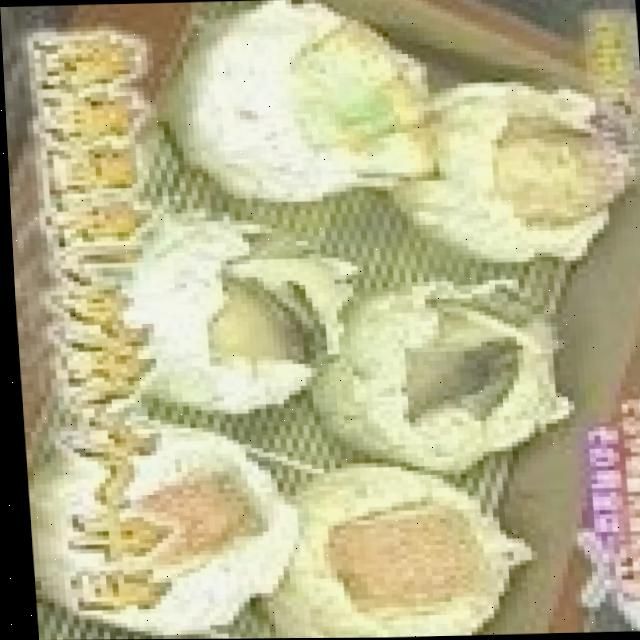带馅早点: (148, 0, 559, 639)
